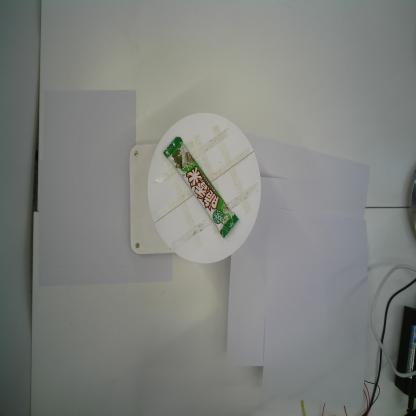Chocolate: (162, 136, 240, 238)
